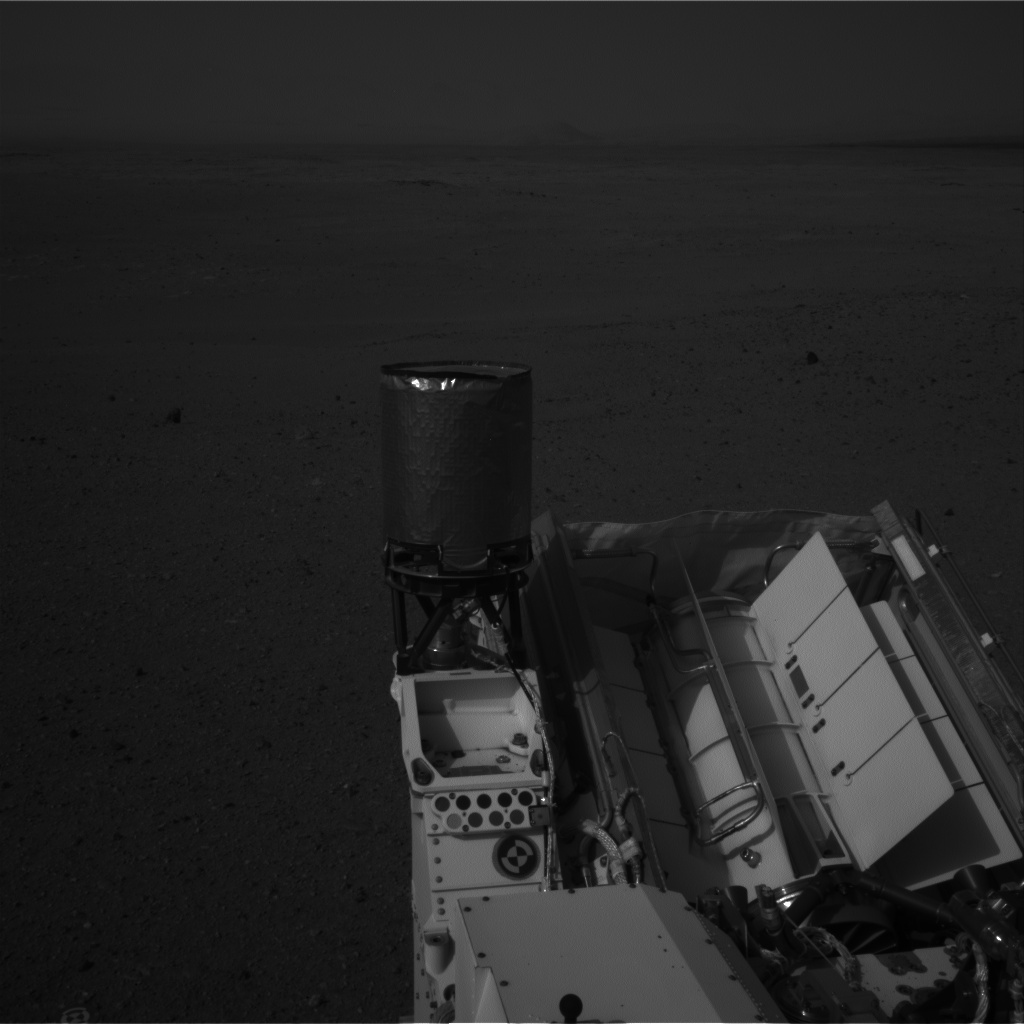soil: (11, 346, 382, 1007), (549, 348, 1009, 544)
